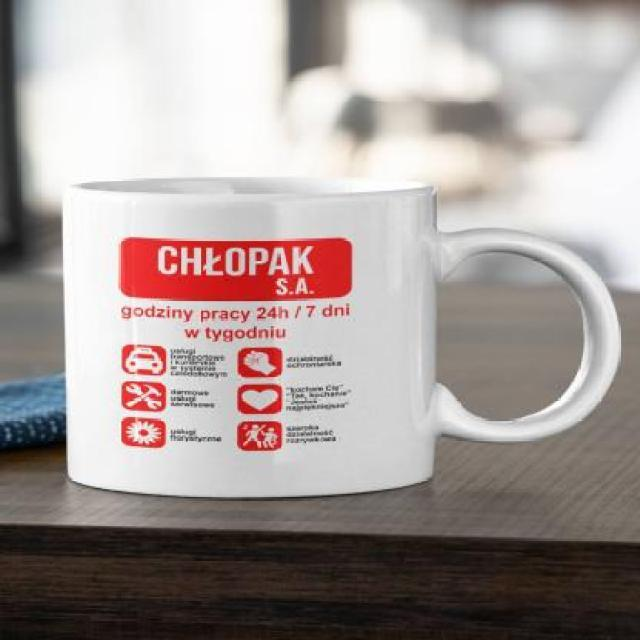cup: (54, 172, 628, 502)
